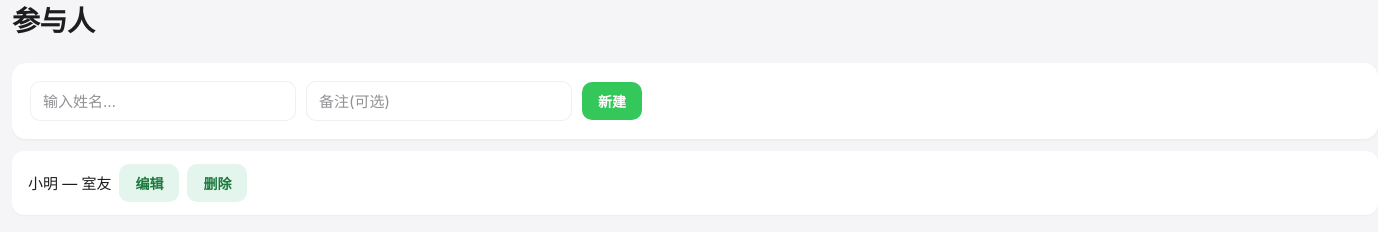
参与人管理组件 › 编辑参与人并保存,列表显示新姓名
expect the list item "小明 — 室友 编辑 删除" is shown: met, box x1=12 y1=151 x2=1377 y2=215
Click the button "编辑" at (150,183), box x1=120 y1=164 x2=180 y2=202
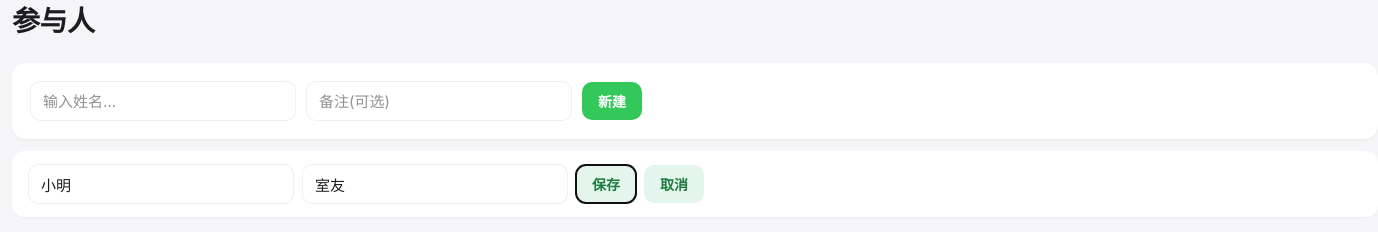
Replace the text in the field named "编辑姓名" with "大明" at (161,184), box x1=28 y1=164 x2=294 y2=204
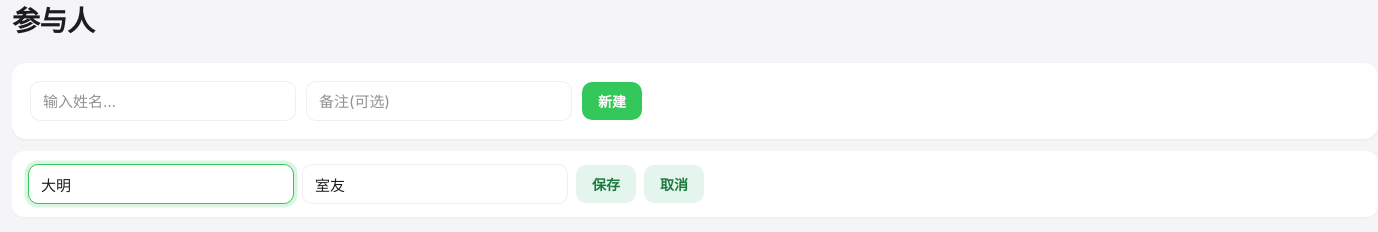
Click the button "保存" at (606,184), box x1=576 y1=165 x2=636 y2=203
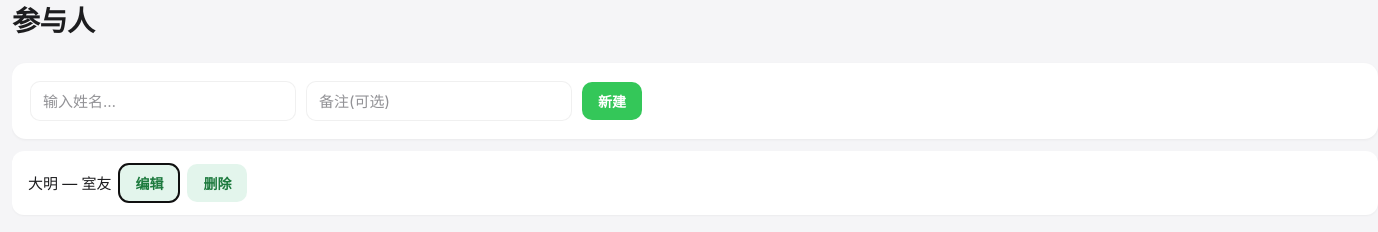
expect the list item "大明 — 室友 编辑 删除" is shown: met, box x1=12 y1=151 x2=1377 y2=215
